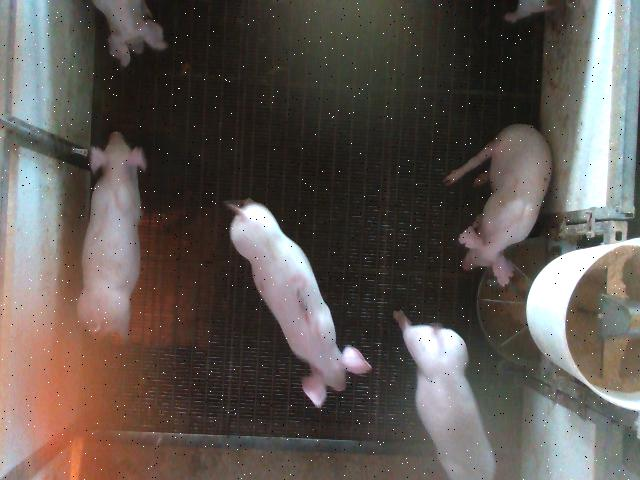pig-3: (226, 199, 371, 408)
